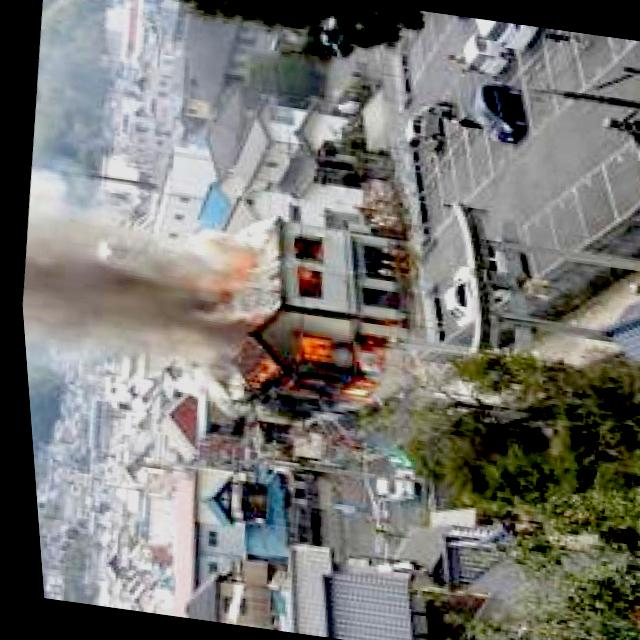helmet: (237, 325, 390, 416), (288, 266, 321, 302)
no_helmet: (10, 177, 287, 388)
